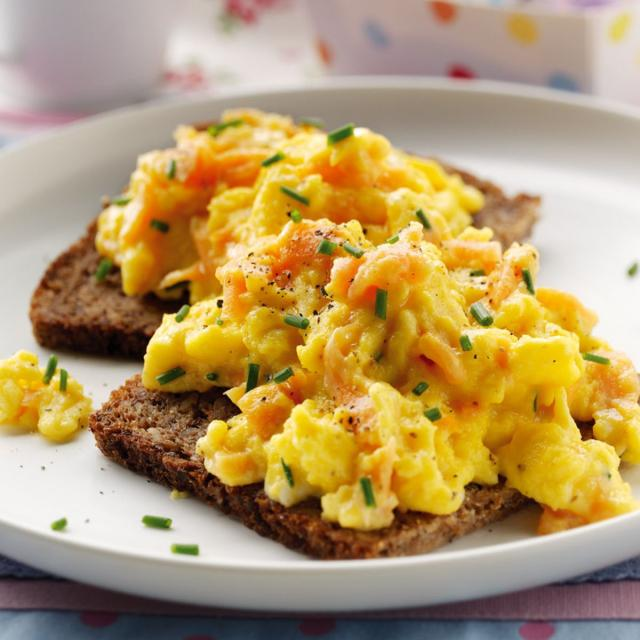eggs: (143, 125, 613, 518)
